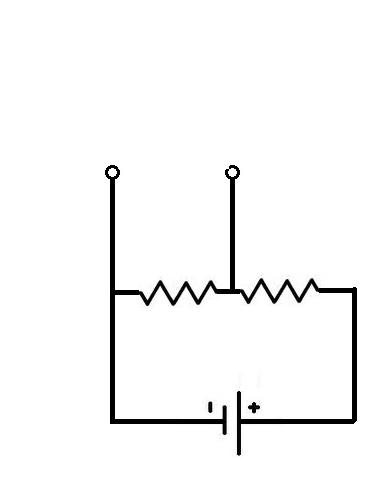resistor: (237, 263, 335, 329), (129, 274, 223, 314)
